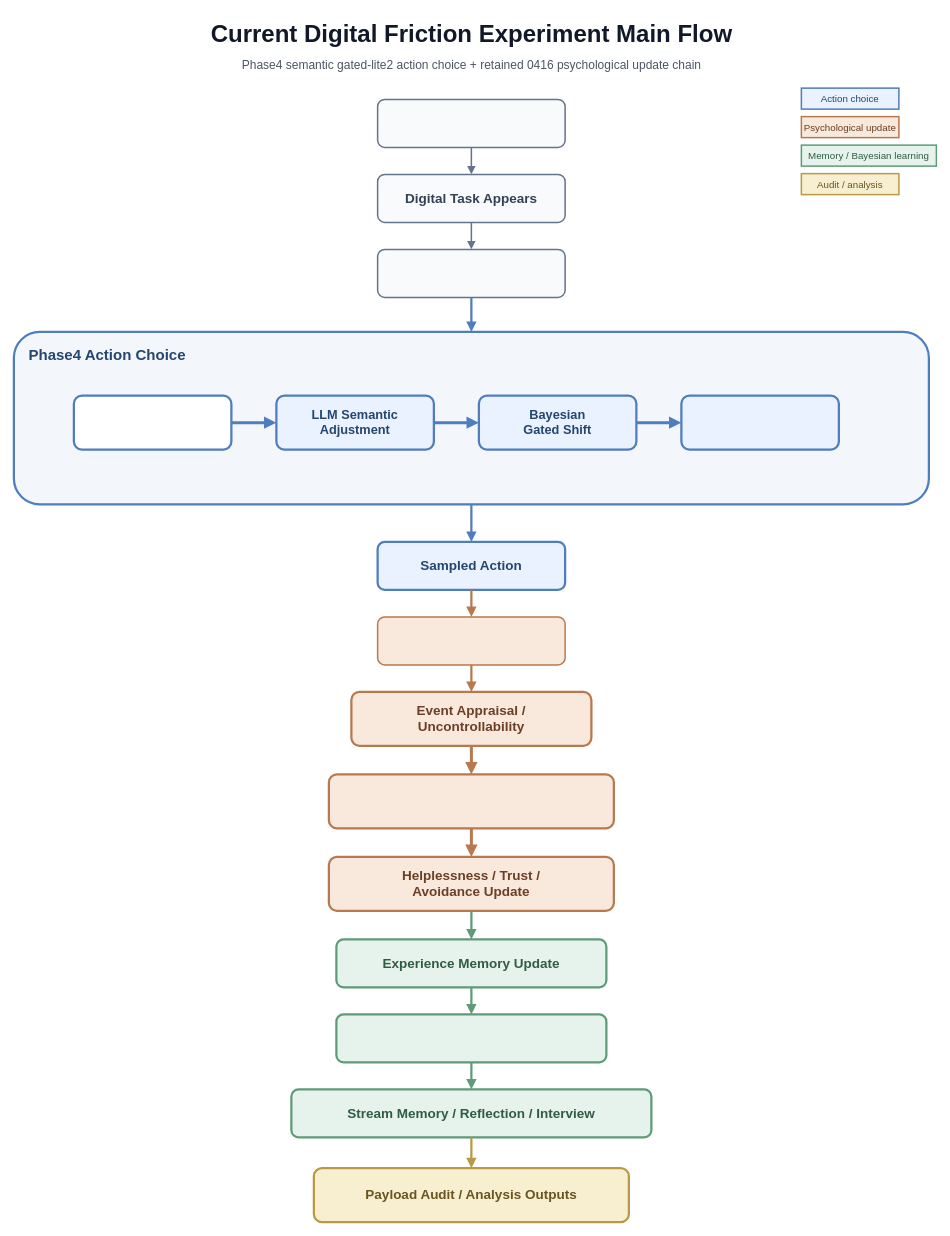
The diagram is 950 pixels wide and 1236 high, and some of its shapes have lost their labels. The shapes that lost their labels are listed below. From the top down, each one's centre as x and y in pixels, then its label:
At pixel 471 123: "world_runner".
At pixel 471 273: "Task Appraisal".
At pixel 152 422: "Weak Prior".
At pixel 760 422: "Safety Guard".
At pixel 471 640: "Digital Task Outcome".
At pixel 471 801: "Attribution / Avoid Reason / Support Mode".
At pixel 471 1038: "Bayesian Posterior Update".
